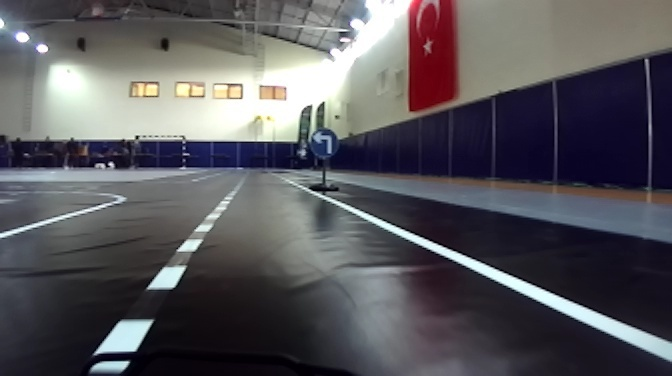sola_donus: (309, 125, 337, 157)
